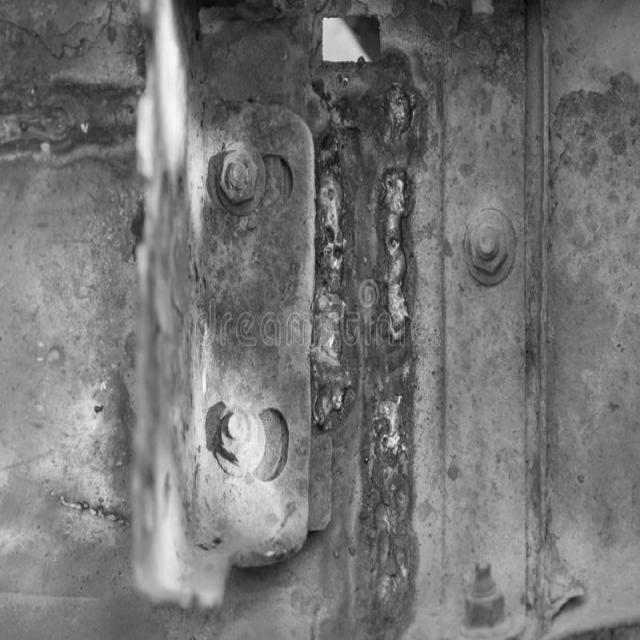Bad Welding: (366, 76, 420, 612), (302, 130, 352, 426)
Porosity: (316, 221, 341, 270)
